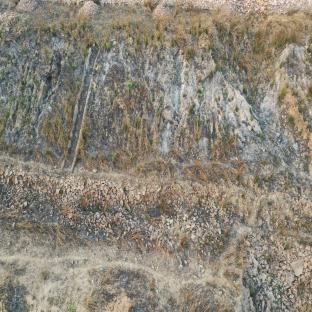rock_toe: (0, 164, 238, 264), (245, 230, 312, 312)
slope_drain: (56, 46, 101, 173)
